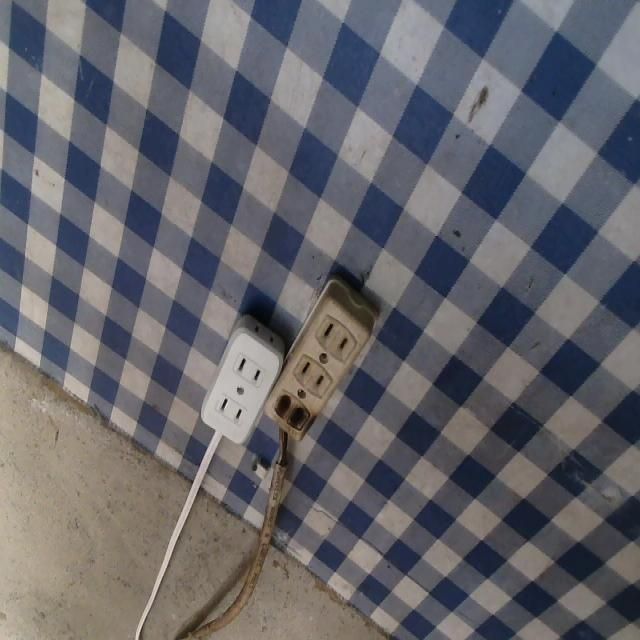-: (264, 387, 314, 437)
